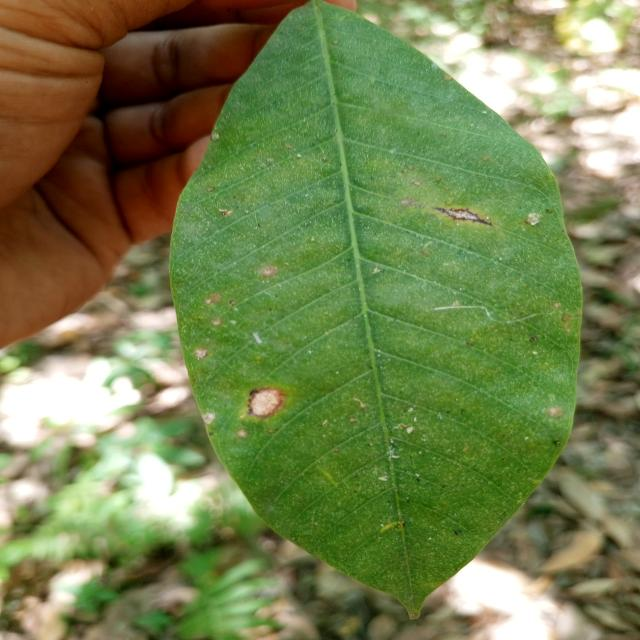Corynespora: (434, 206, 492, 226)
Leaf-Blight: (250, 388, 283, 417)
